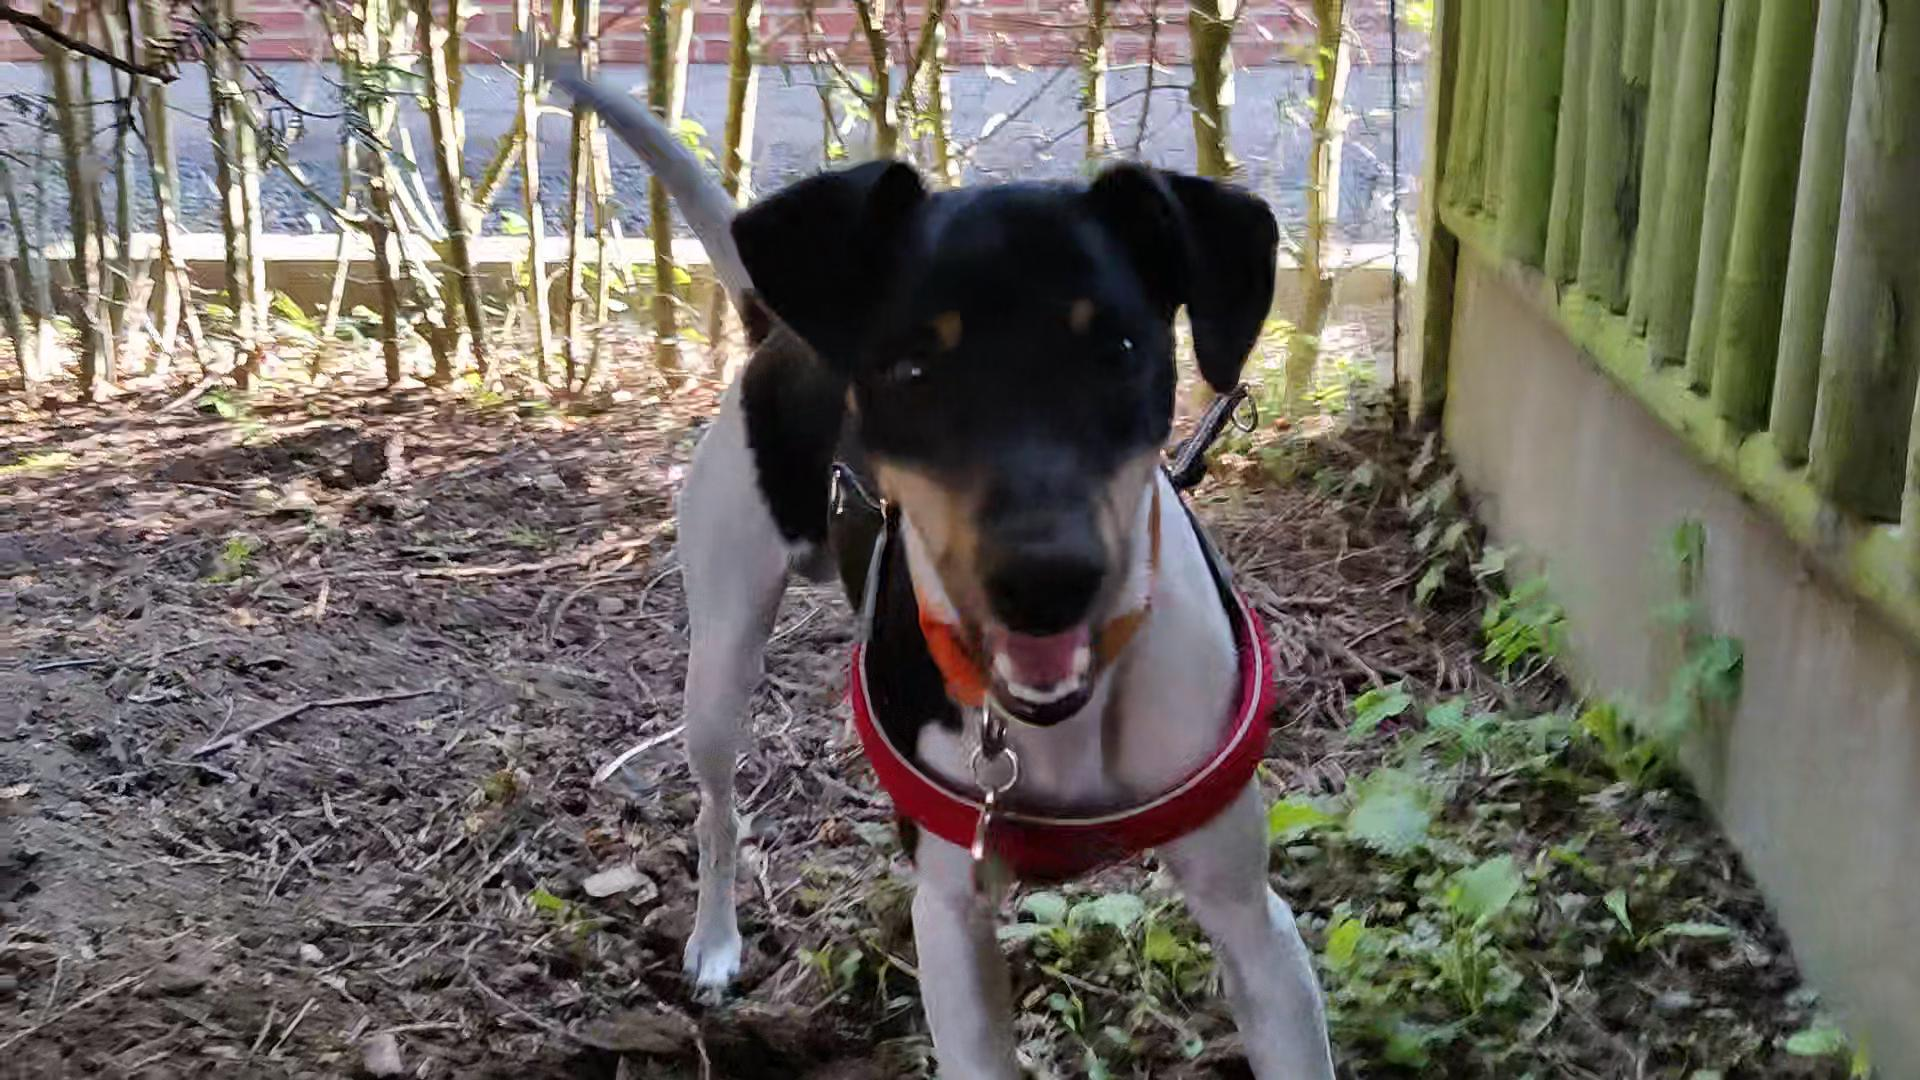Dog: (537, 47, 1370, 1079)
